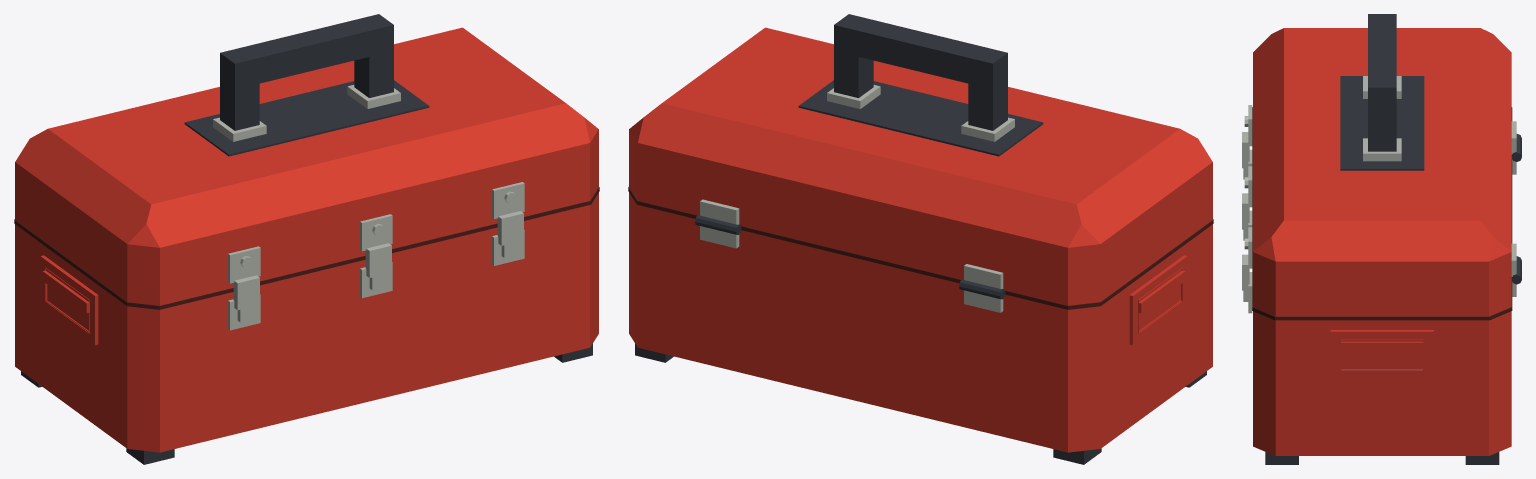
The model's file is mills q3 toolchest.fbx.
3 renders of one model, left to right at view 1: azimuth 30°, elevation 25°; view 2: azimuth 150°, elevation 25°; view 3: azimuth 270°, elevation 25°, orthographic. The views are drawn at different scales.
Parts seen in each view (by area): view 1: Chest_Lid.002; view 2: Chest_Lid.002; view 3: Chest_Lid.002.
Boxes of the visible parts, x1,y1,x2,y2 form: Chest_Lid.002: [14, 14, 599, 464]; Chest_Lid.002: [628, 14, 1213, 464]; Chest_Lid.002: [1242, 14, 1521, 464].
Bounding box in the file's own units: 82.11 × 52.9 × 43.3.
